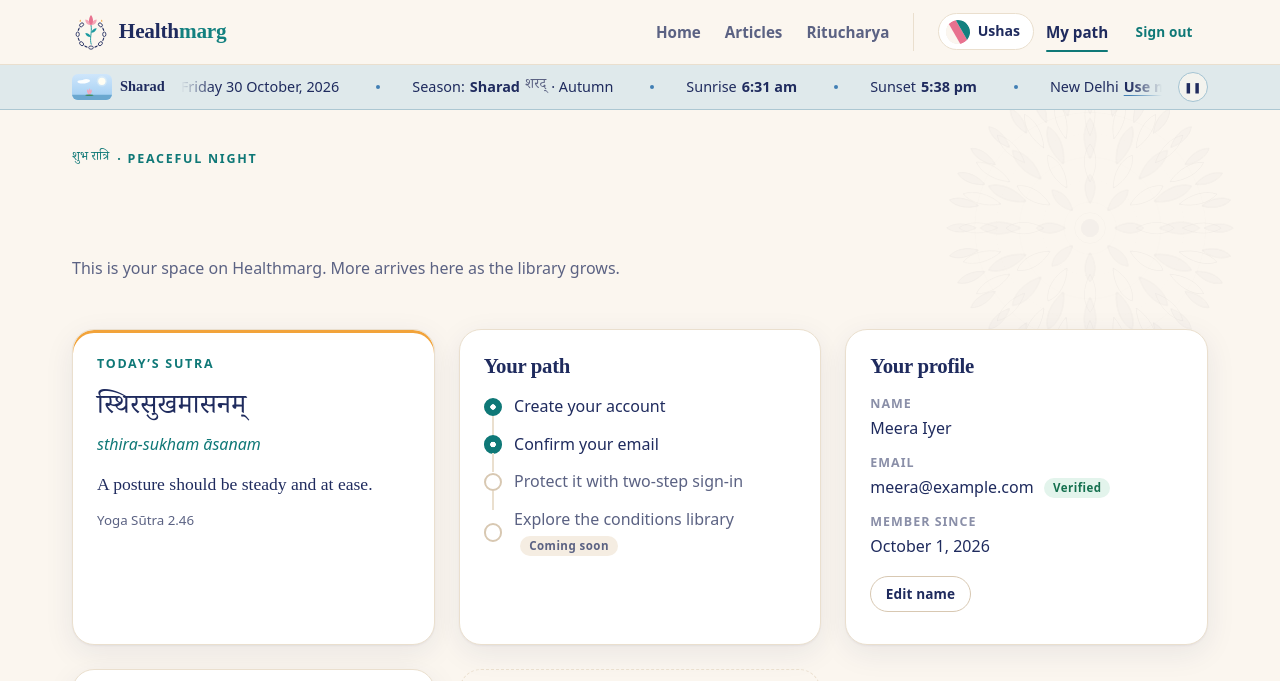
Test: member dashboard › says what is wrong with an empty name, and clears it on typing
Click the button "Edit name" at x=920, y=594, box [870, 576, 971, 612]
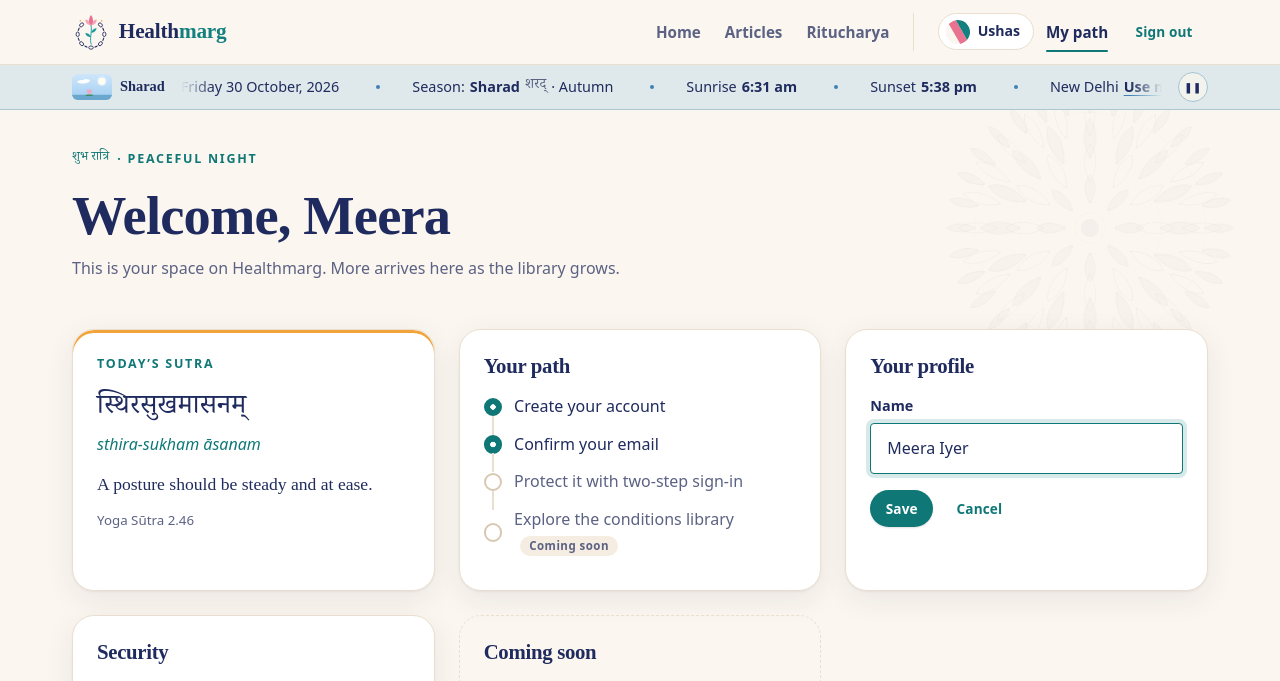
Clear the field labelled "Name" at x=1027, y=448, box [870, 423, 1183, 474]
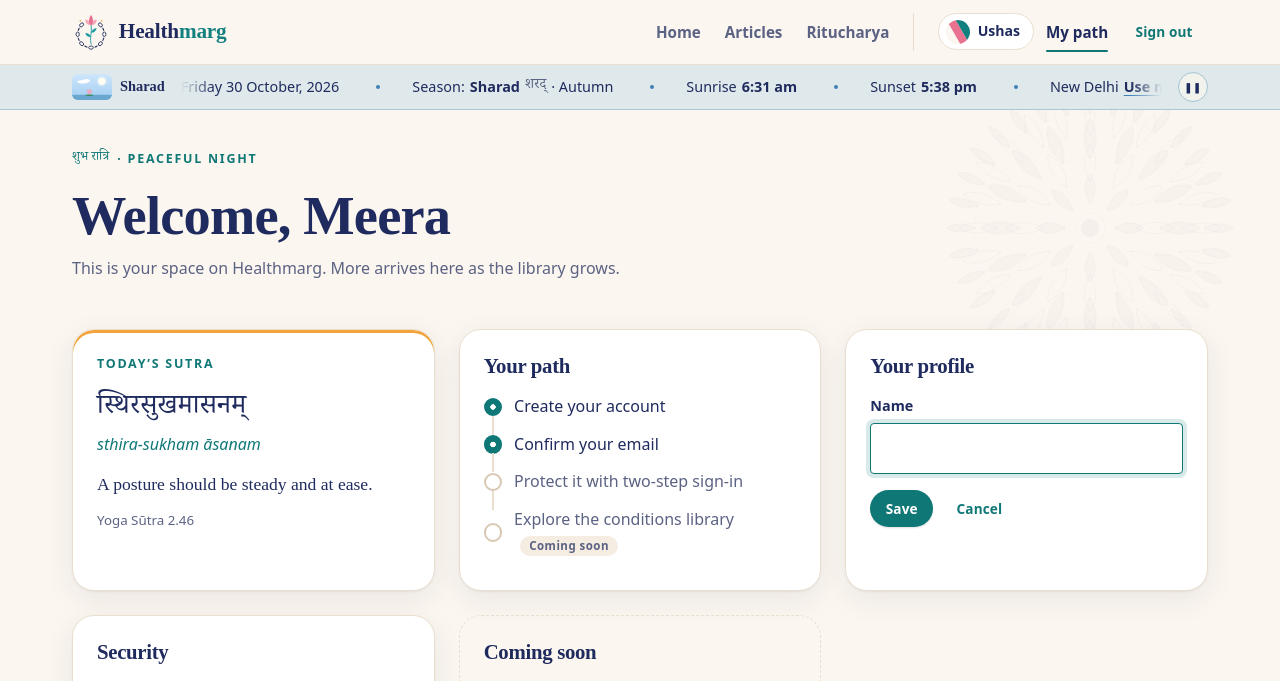
Click the button "Save" at x=902, y=509, box [870, 490, 933, 527]
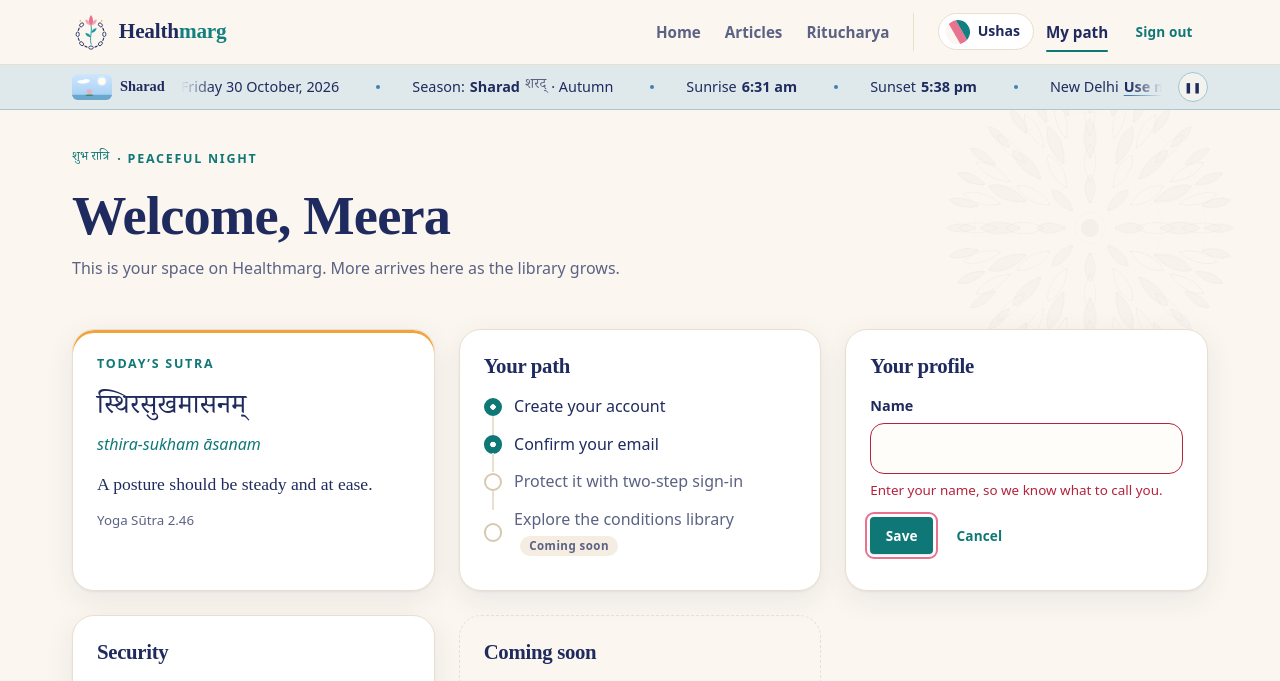
Result: the text "Enter your name, so we know what to call you." is shown at [870, 480, 1183, 501]
Type "M" into the field labelled "Name" at x=1027, y=448, box [870, 423, 1183, 474]
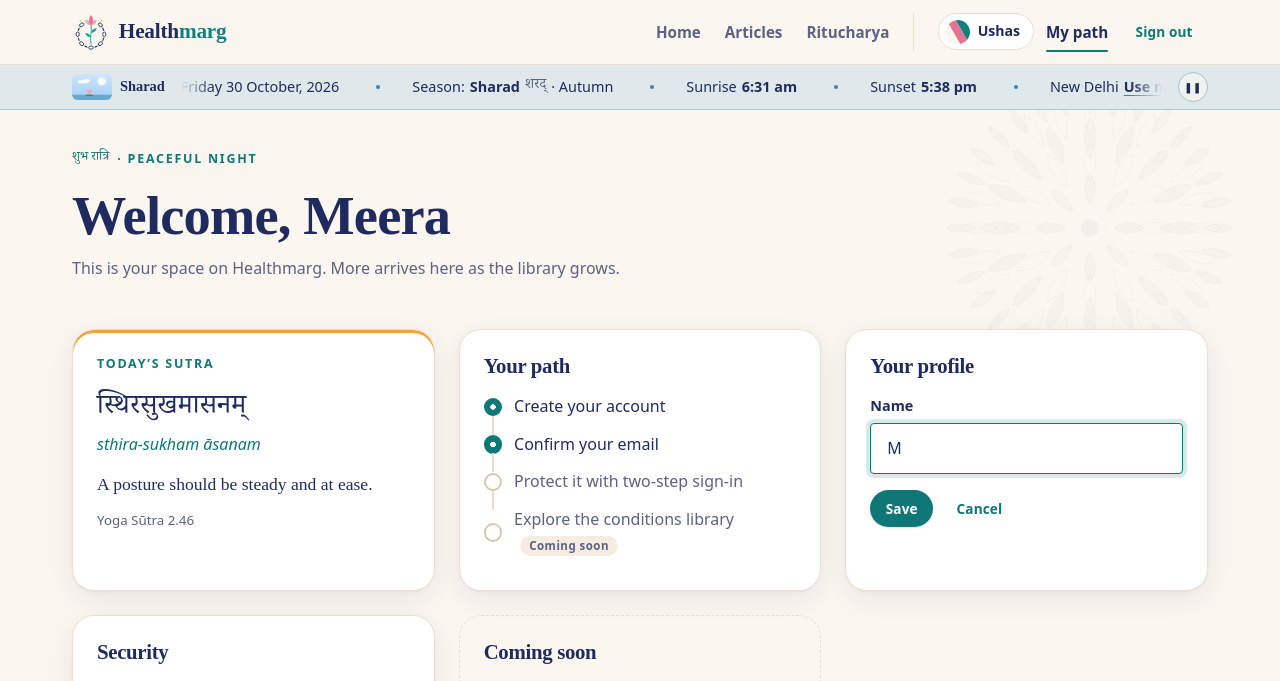
Result: the text "Enter your name" is gone
